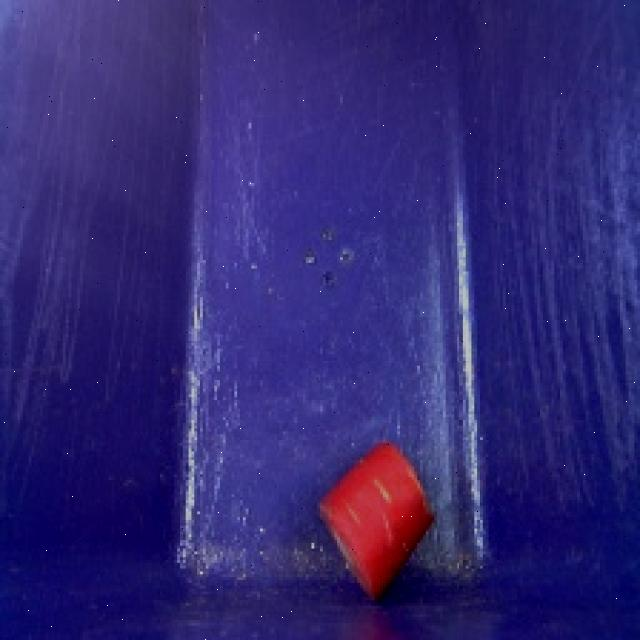carrots: (307, 434, 441, 612)
